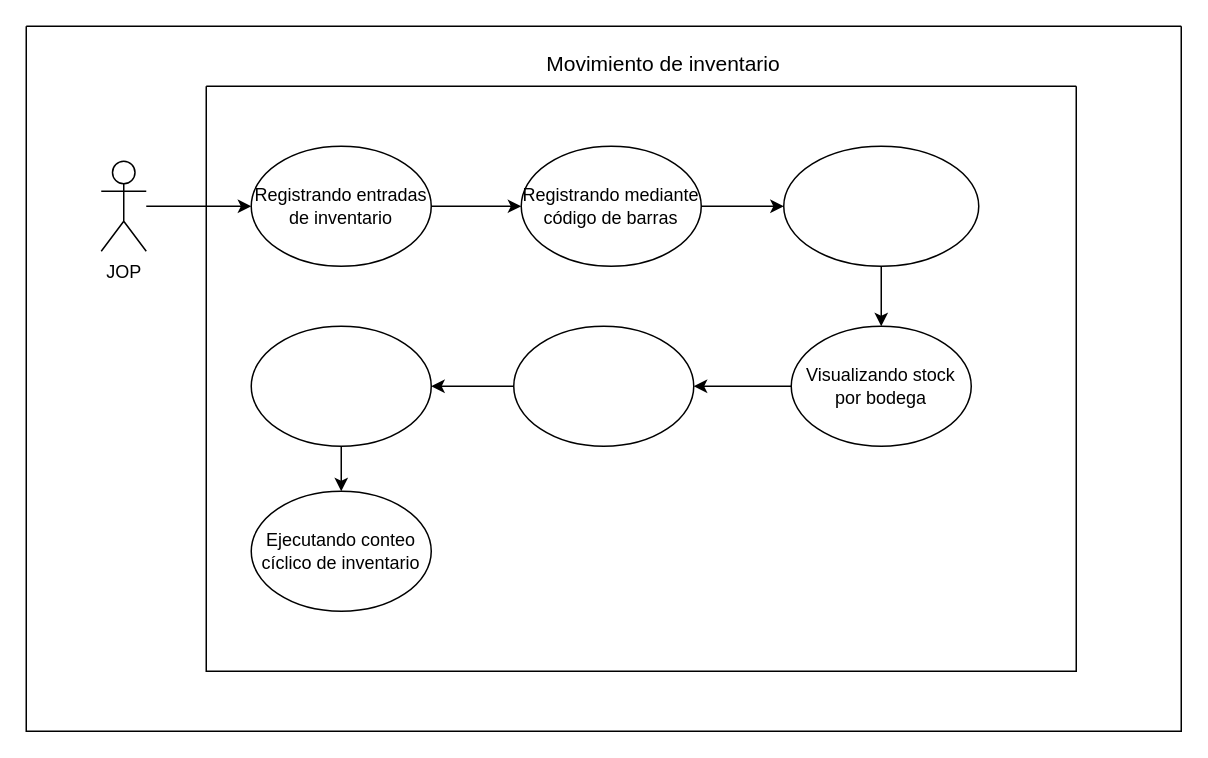
The diagram is 1208 pixels wide and 758 high, and some of its shapes have lost their labels. Each missing label, with the box of its shape:
Registrando motivo de salida: (512, 325, 694, 446)
Registrando proveedor en entrada: (782, 145, 979, 266)
Registrando salidas de inventario: (250, 325, 431, 446)
